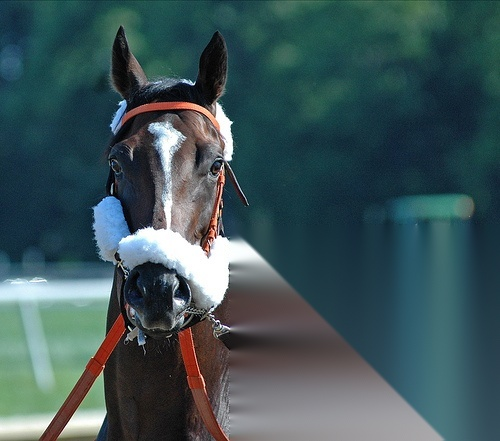horse: (95, 23, 500, 441)
